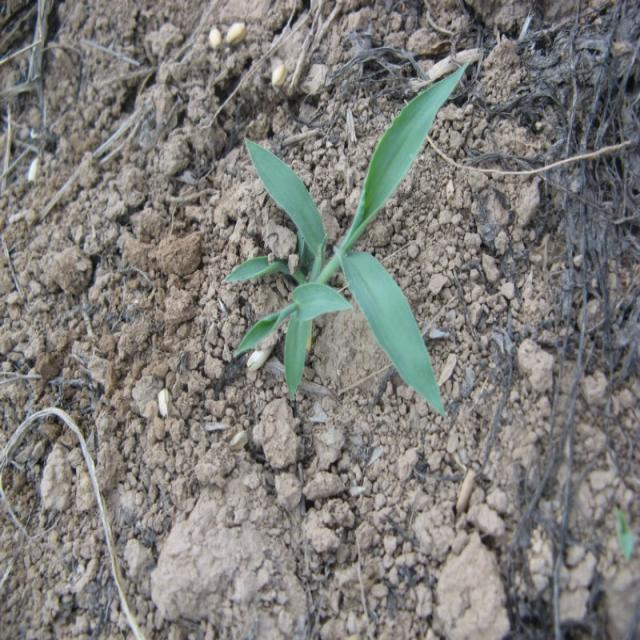bg: (228, 68, 462, 414)
